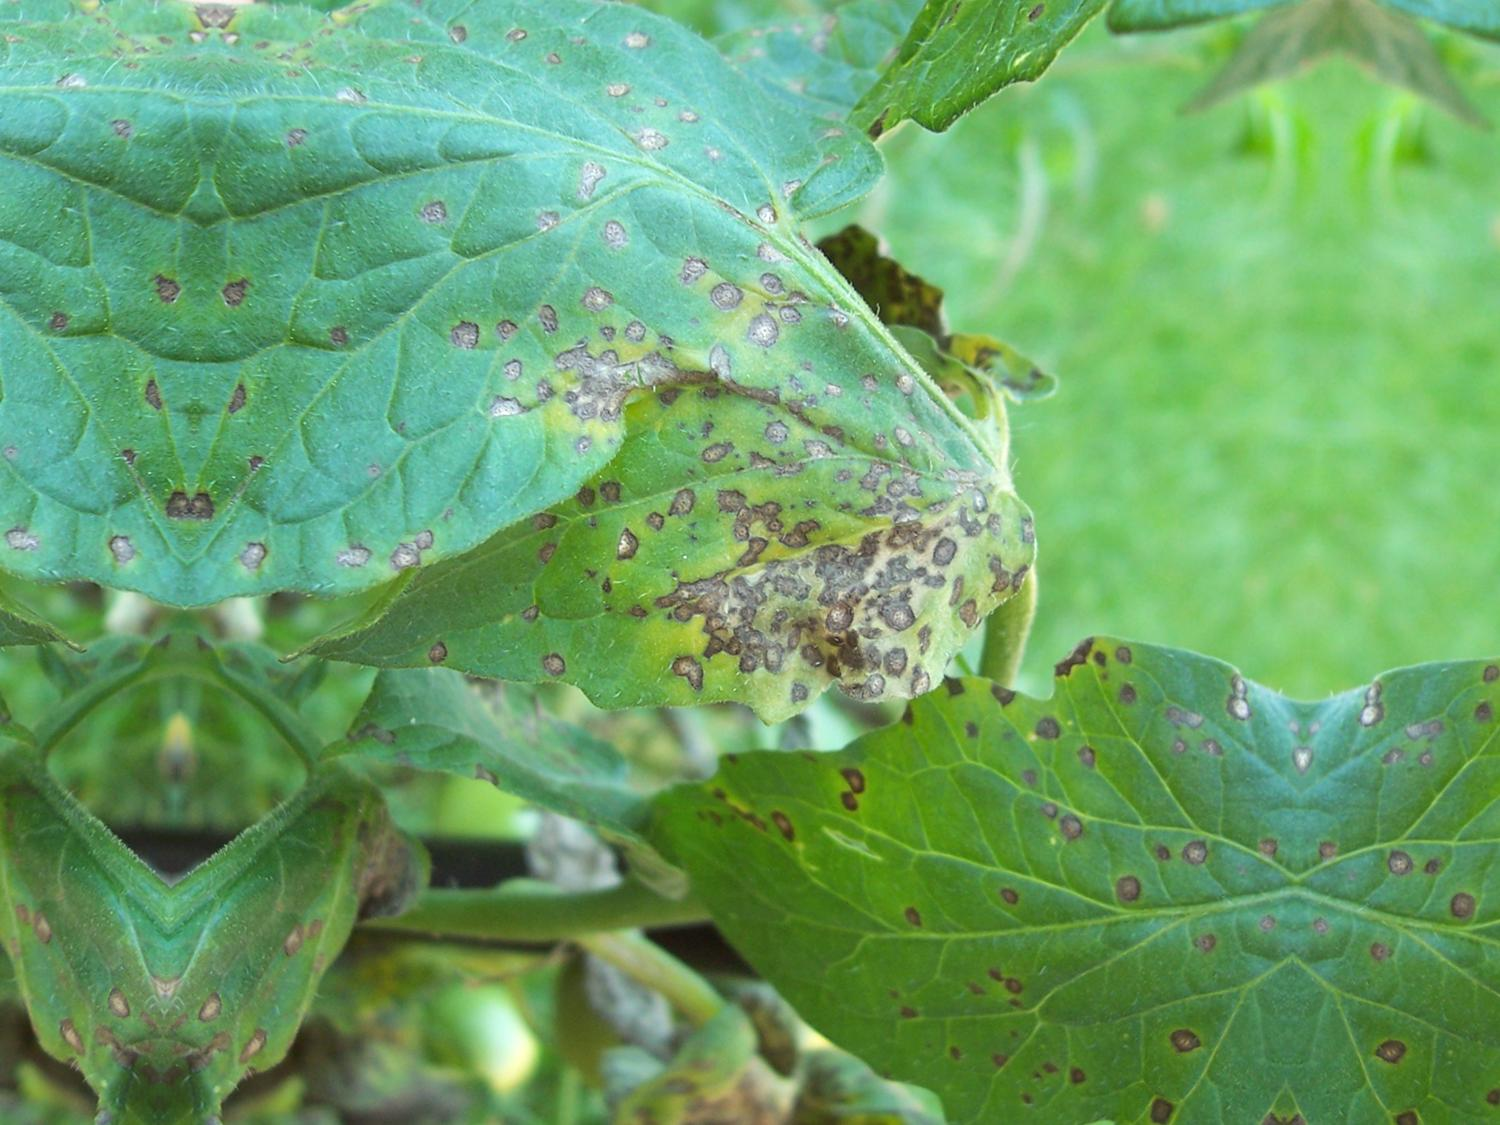Tomato Septoria leaf spot: (182, 0, 1070, 710), (600, 583, 1310, 1125)
